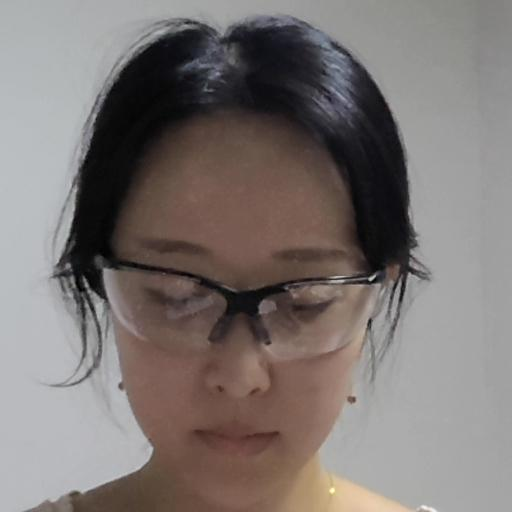glasses: (51, 12, 427, 509)
